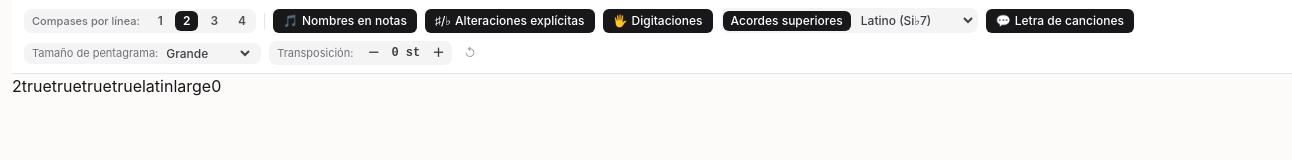
OrthogonalControlsBar › toggles note names, accidentals, and fingerings orthogonally
Click the button with test id "toggle-note-names": (345, 20) x1=273 y1=8 x2=417 y2=32
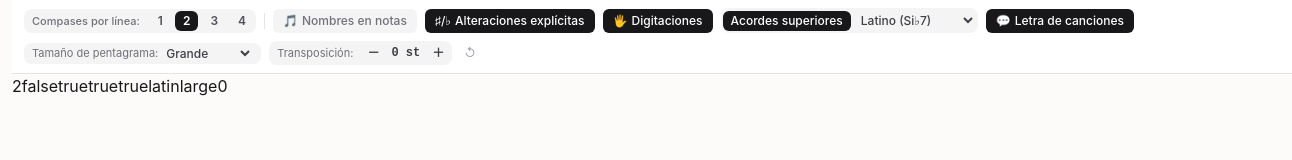
expect the text with test id "insp-notenames" reads "false": met, box x1=22 y1=76 x2=58 y2=96
Click the button with test id "toggle-accidentals": (510, 20) x1=425 y1=8 x2=595 y2=32
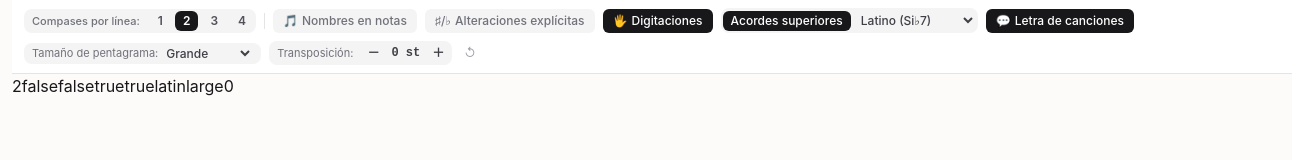
expect the text with test id "insp-accidentals" reads "false": met, box x1=58 y1=76 x2=94 y2=96
Click the button with test id "toggle-fingerings": (658, 20) x1=603 y1=8 x2=713 y2=32
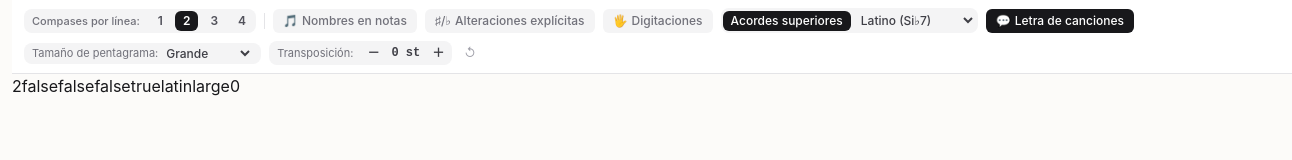
expect the text with test id "insp-fingerings" reads "false": met, box x1=94 y1=76 x2=131 y2=96
